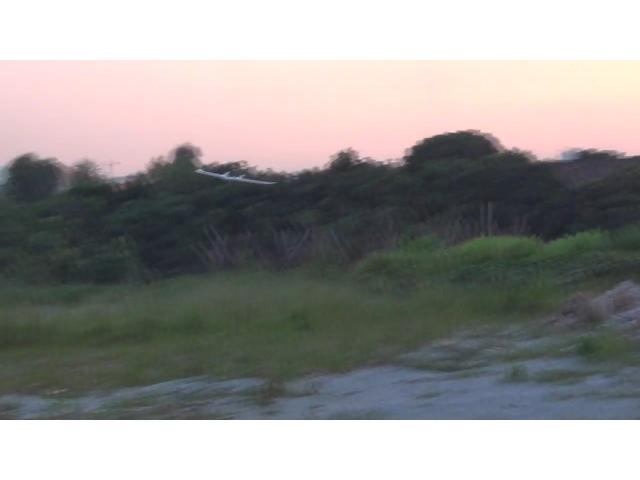Anti-Drone: (197, 169, 275, 185)
